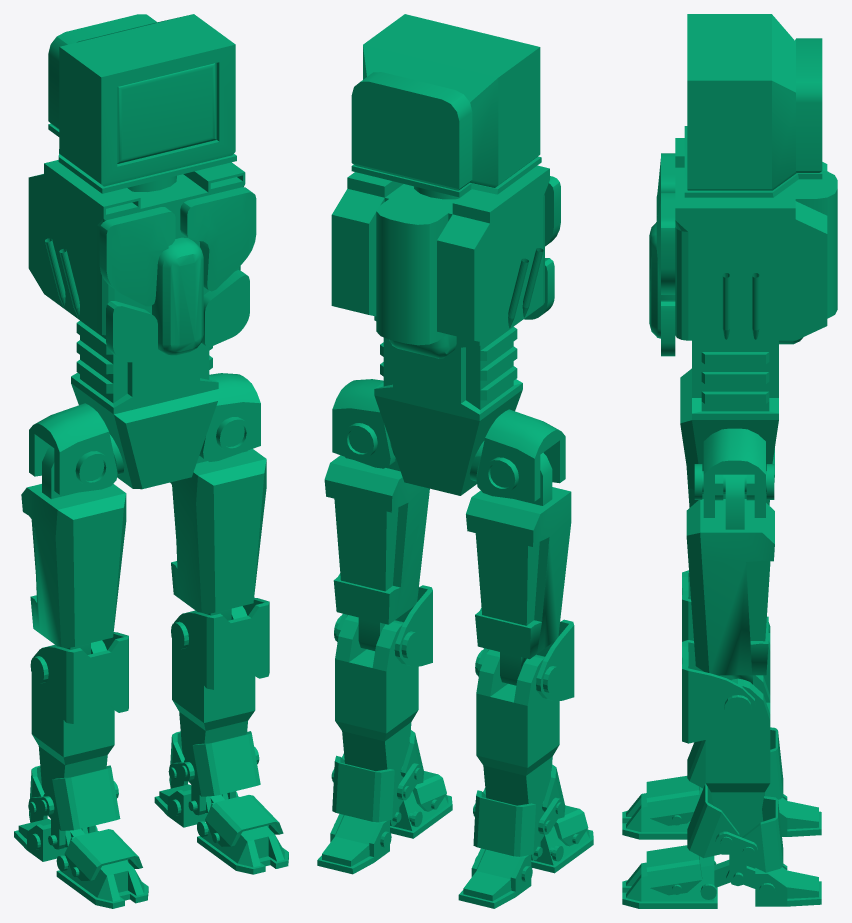
Rendered from Default_Brand_Pedro.fbx.
The picture shows the model from 3 angles, left to right: view 1: azimuth 30°, elevation 25°; view 2: azimuth 150°, elevation 25°; view 3: azimuth 270°, elevation 25°; orthographic projection.
Visible parts, largest first — view 1: Robo_Joined; view 2: Robo_Joined; view 3: Robo_Joined.
Part boxes in pixels (x1,y1,x2,y2): Robo_Joined: (14, 14, 288, 908); Robo_Joined: (317, 14, 593, 908); Robo_Joined: (622, 14, 837, 908).
Size of the model in its own units: 234 by 841 by 202.
